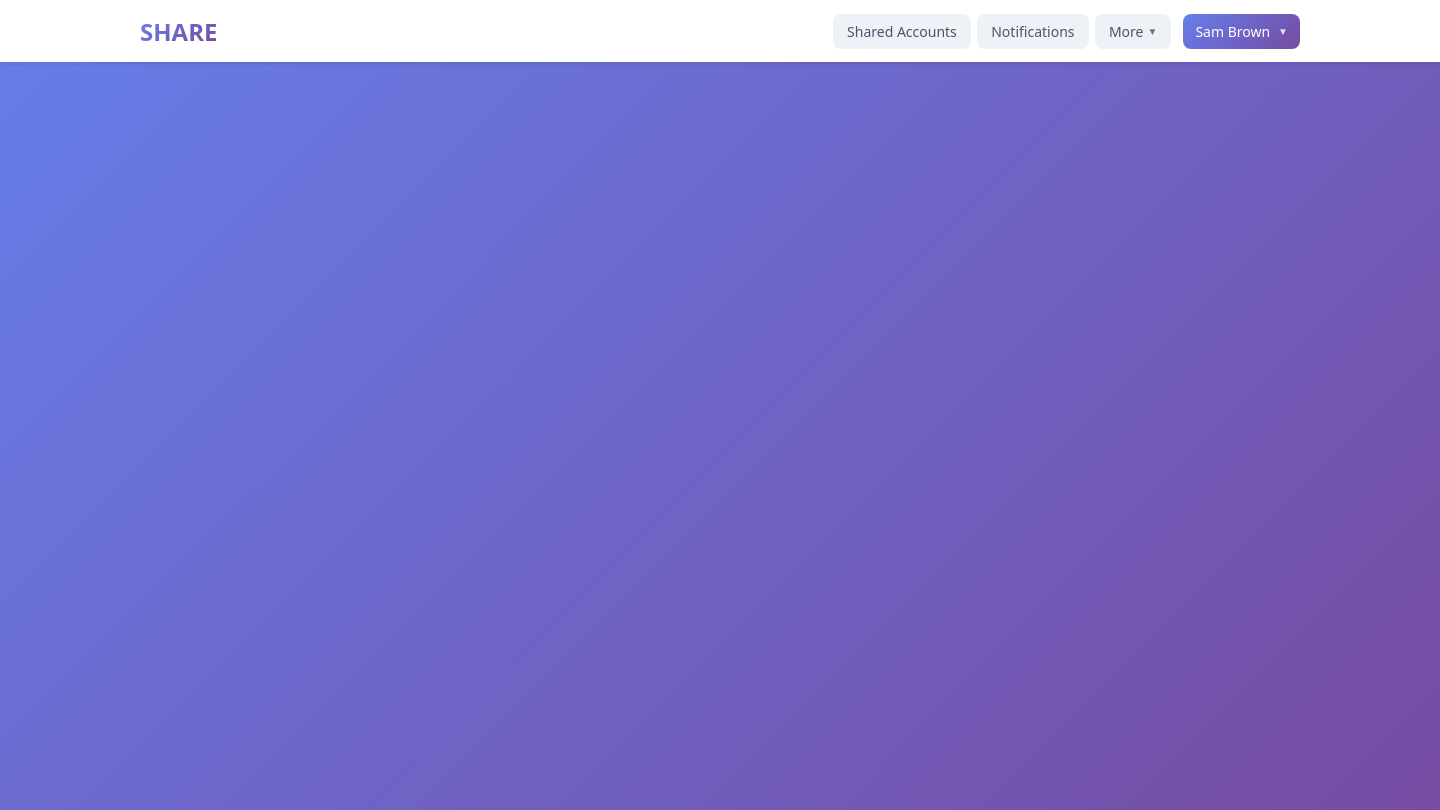
Test case: Navbar primary entry point › uses the SHARE logo as Home and does not show a Home nav item
The width and height of the screenshot is (1440, 810).
Step 1. Click the button "More ▼" → (1133, 31), box [1095, 14, 1171, 49]
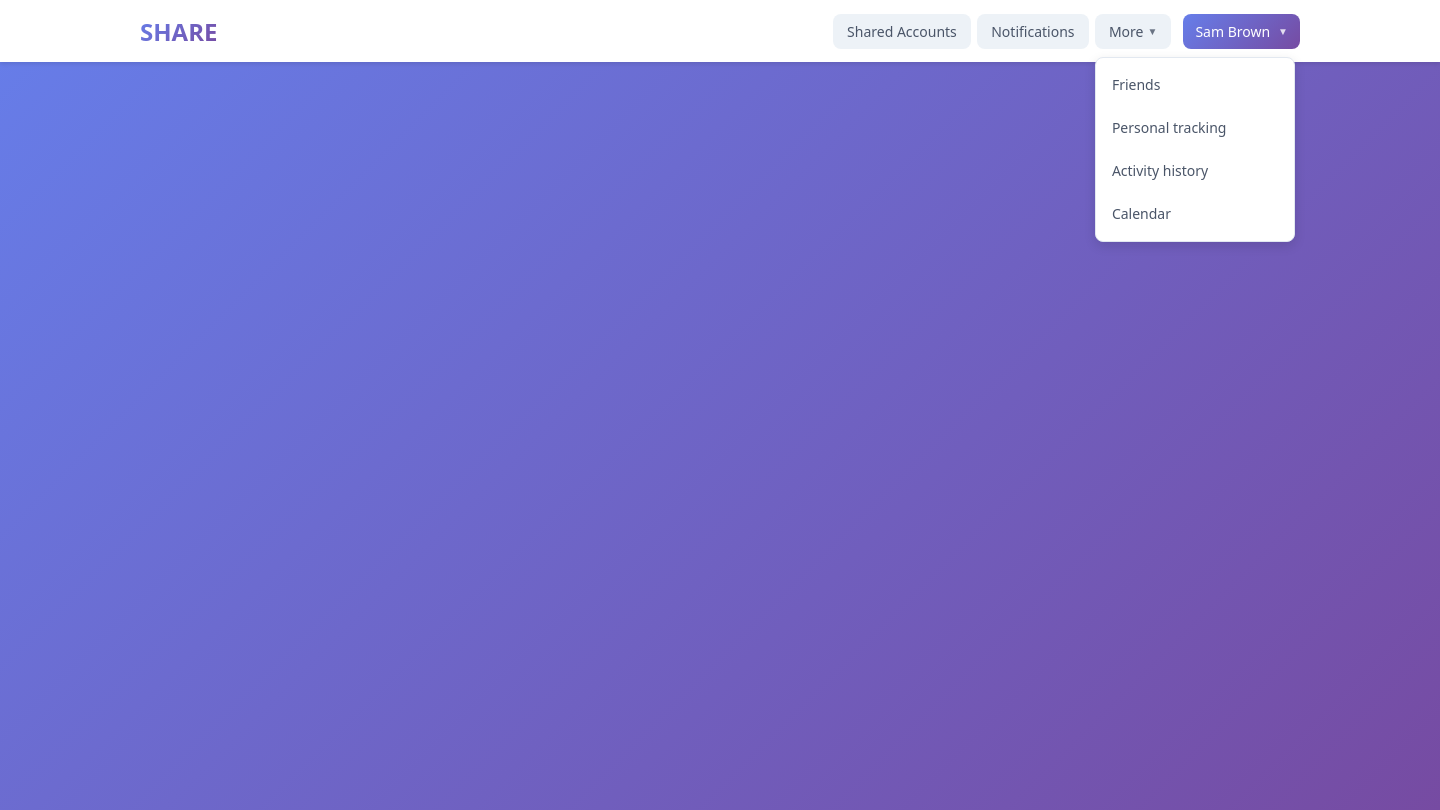
Result: the link "Friends" is shown at [1112, 75, 1160, 94]
